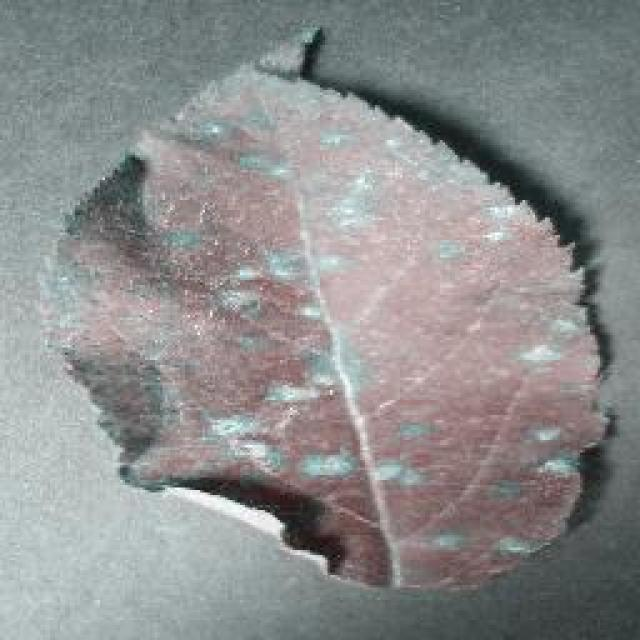apple rust disease: (43, 42, 615, 592)
